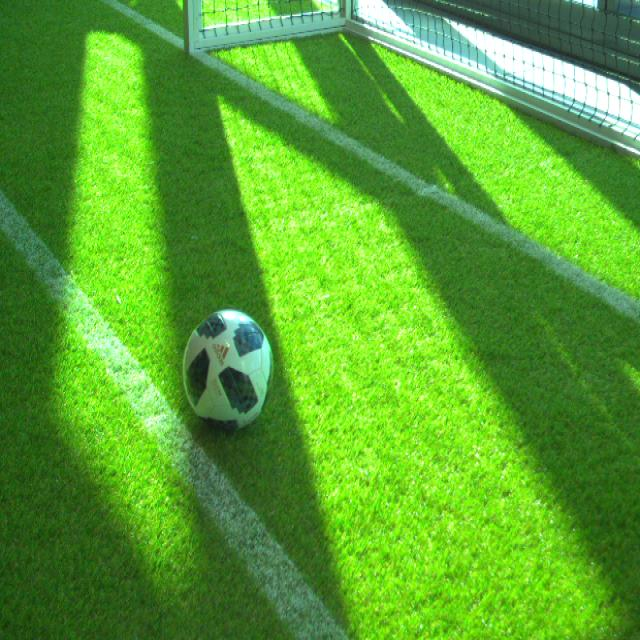ball: (178, 308, 274, 432)
goalpost: (184, 0, 201, 55)
